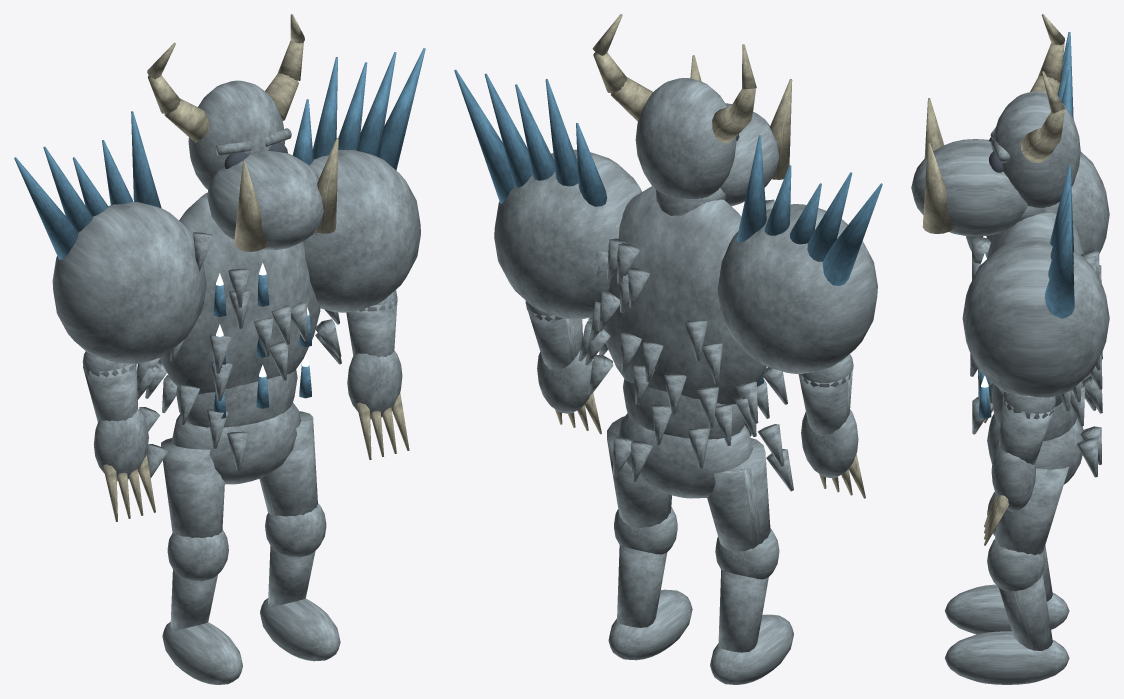
The model's file is enemy_snow_devourer.glb.
3 views of the same model, side by side, from view 1: azimuth 30°, elevation 25°; view 2: azimuth 150°, elevation 25°; view 3: azimuth 270°, elevation 25° (orthographic). The views are drawn at different scales.
Parts seen in each view (by area): view 1: White_winter_fur.006, White_winter_fur, Blue_glacial_ice, White_winter_fur.005, White_winter_fur.001, White_winter_fur.003, Aged_bone.002, White_winter_fur.002, White_winter_fur.004, Aged_bone.001, Aged_bone; view 2: White_winter_fur.006, White_winter_fur, Blue_glacial_ice, White_winter_fur.001, White_winter_fur.005, White_winter_fur.003, Aged_bone.002, White_winter_fur.002, White_winter_fur.004; view 3: White_winter_fur.006, White_winter_fur.005, White_winter_fur.003, Aged_bone.002, White_winter_fur.004, White_winter_fur, Blue_glacial_ice, White_winter_fur.001, Aged_bone.001.
Boxes of the visible parts, x1,y1,x2,y2 form: White_winter_fur.006: (52, 149, 420, 478); White_winter_fur: (159, 192, 320, 484); Blue_glacial_ice: (14, 48, 425, 418); White_winter_fur.005: (188, 80, 323, 249); White_winter_fur.001: (161, 438, 242, 684); White_winter_fur.003: (259, 411, 340, 661); Aged_bone.002: (147, 14, 338, 251); White_winter_fur.002: (82, 351, 148, 481); White_winter_fur.004: (346, 290, 402, 419); Aged_bone.001: (356, 393, 409, 459); Aged_bone: (103, 455, 155, 521); White_winter_fur.006: (494, 149, 877, 491); White_winter_fur: (604, 186, 766, 498); Blue_glacial_ice: (454, 69, 882, 386); White_winter_fur.001: (707, 438, 793, 684); White_winter_fur.005: (635, 78, 779, 215); White_winter_fur.003: (607, 416, 692, 660); Aged_bone.002: (592, 14, 792, 179); White_winter_fur.002: (798, 354, 858, 477); White_winter_fur.004: (525, 301, 592, 413); White_winter_fur.006: (962, 151, 1109, 477); White_winter_fur.005: (911, 91, 1080, 236); White_winter_fur.003: (945, 467, 1069, 684); Aged_bone.002: (922, 14, 1064, 233); White_winter_fur.004: (991, 392, 1056, 511); White_winter_fur: (987, 212, 1083, 484); Blue_glacial_ice: (978, 32, 1074, 418); White_winter_fur.001: (945, 492, 1069, 634); Aged_bone.001: (984, 493, 1008, 545).
Size of the model in its own units: 4.85 by 7.01 by 2.05.
Materials: 5 (3 with a texture image).
